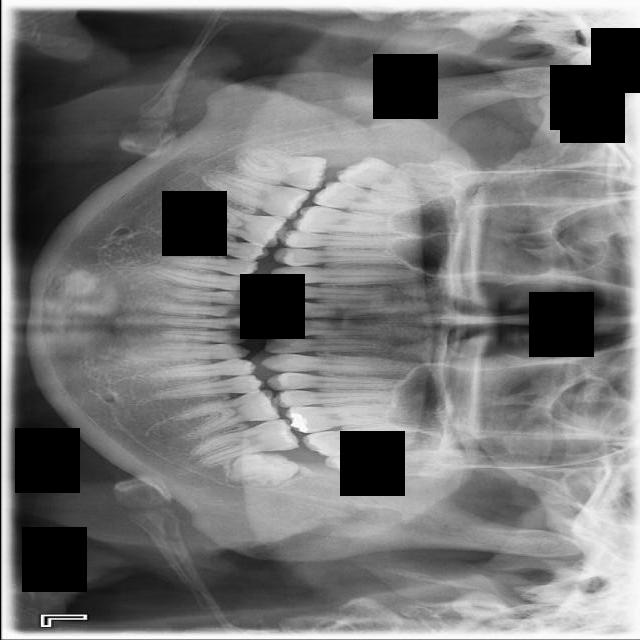3M ESPE Implant: (331, 149, 461, 211)
52: (282, 397, 326, 443)
73: (28, 618, 36, 624)
BioHorizons Implant: (300, 416, 430, 461)
BioLife Implant: (321, 432, 421, 488)
Biomet 3i Implant: (227, 449, 300, 489)
Blue Sky Bio Implant: (189, 415, 300, 468)
Caries: (310, 177, 436, 221)
Implant: (202, 170, 311, 223)
Keystone Dental Implant: (233, 143, 330, 193)
